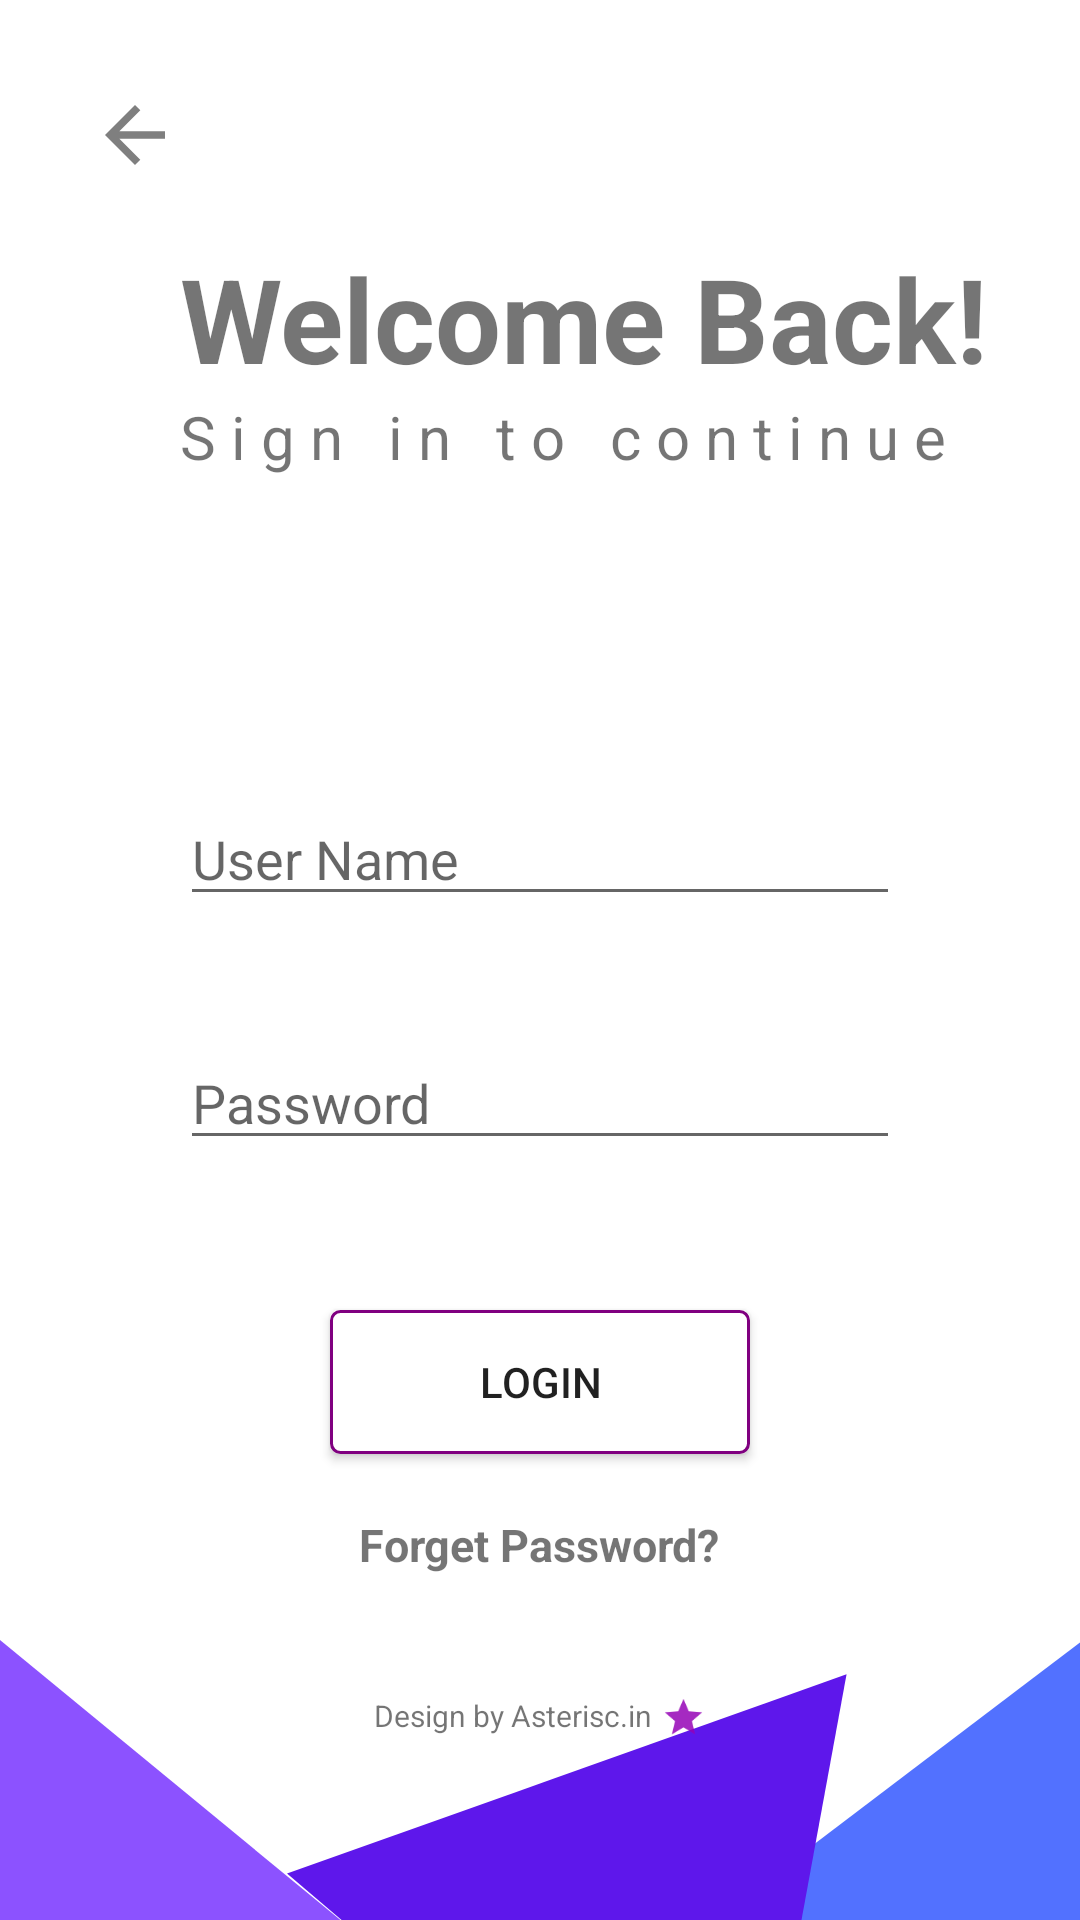

Icons on this 1080×1920 Android screen, each with its box as region(x1, y1, x2, y2):
arrow back: region(105, 105, 165, 165)
